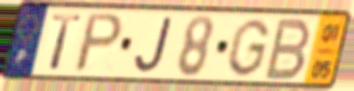8: (176, 14, 216, 79)
B: (261, 17, 314, 82)
G: (224, 17, 273, 79)
J: (132, 16, 175, 75)
P: (71, 11, 126, 75)
T: (48, 13, 85, 72)
